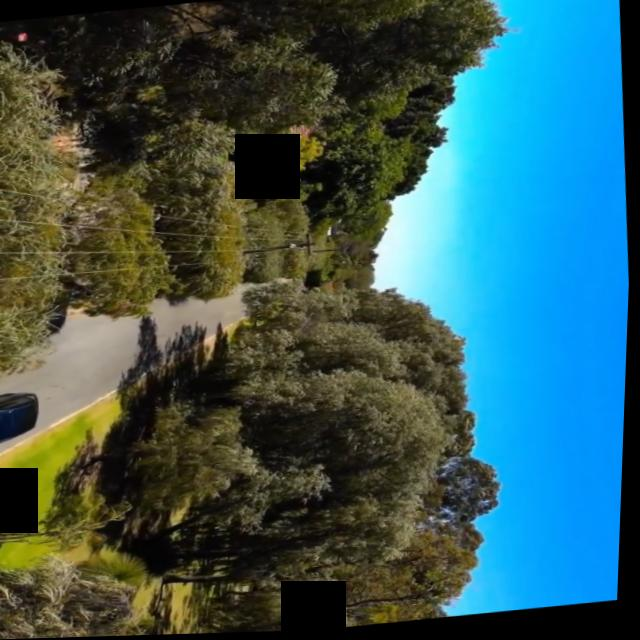Pole: (241, 241, 320, 261), (312, 246, 348, 259)
Tree: (90, 271, 488, 602), (76, 0, 480, 155), (0, 39, 92, 365), (248, 118, 433, 227), (60, 184, 196, 329), (149, 574, 453, 636), (0, 552, 161, 640), (152, 169, 256, 295), (239, 200, 323, 287)
Vehicle: (0, 387, 51, 455)
